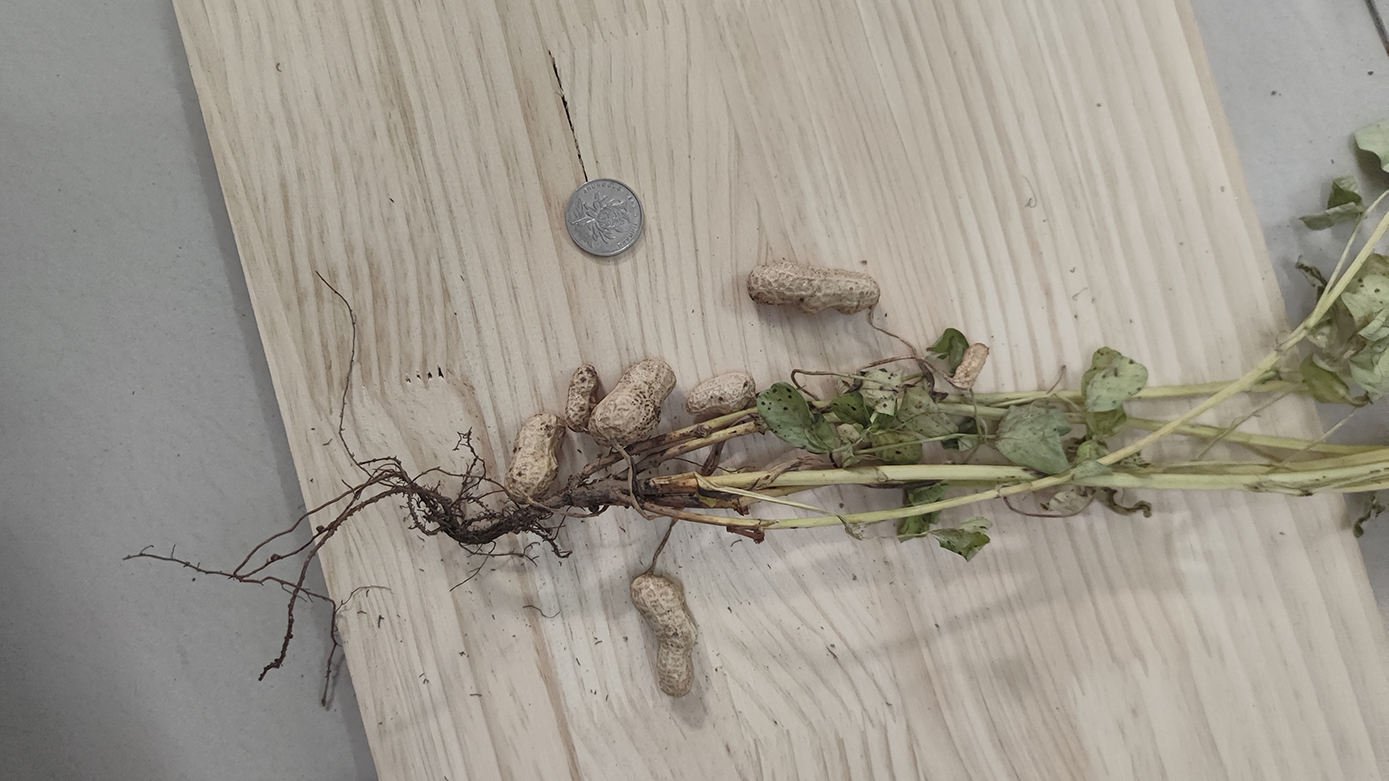h: (629, 573, 697, 696), (590, 355, 675, 448), (747, 258, 882, 315), (500, 413, 567, 498), (686, 369, 756, 414), (566, 363, 600, 430)
l: (953, 343, 987, 385)
